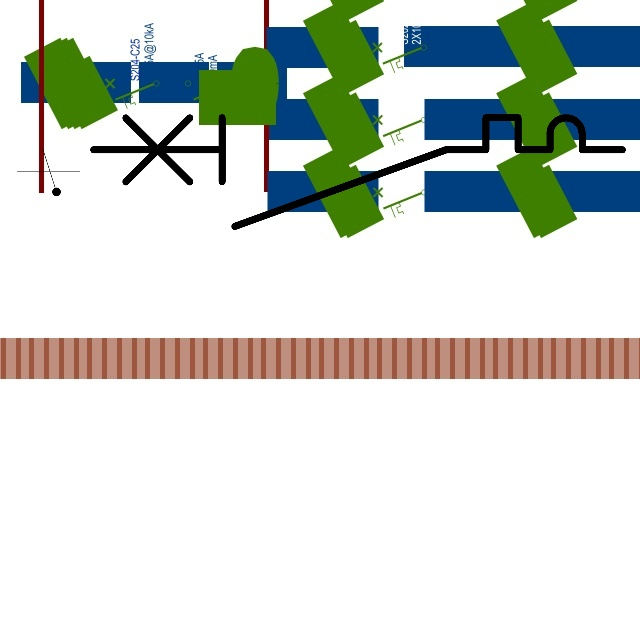interruptor_termomagnetico: (79, 104, 635, 240)
